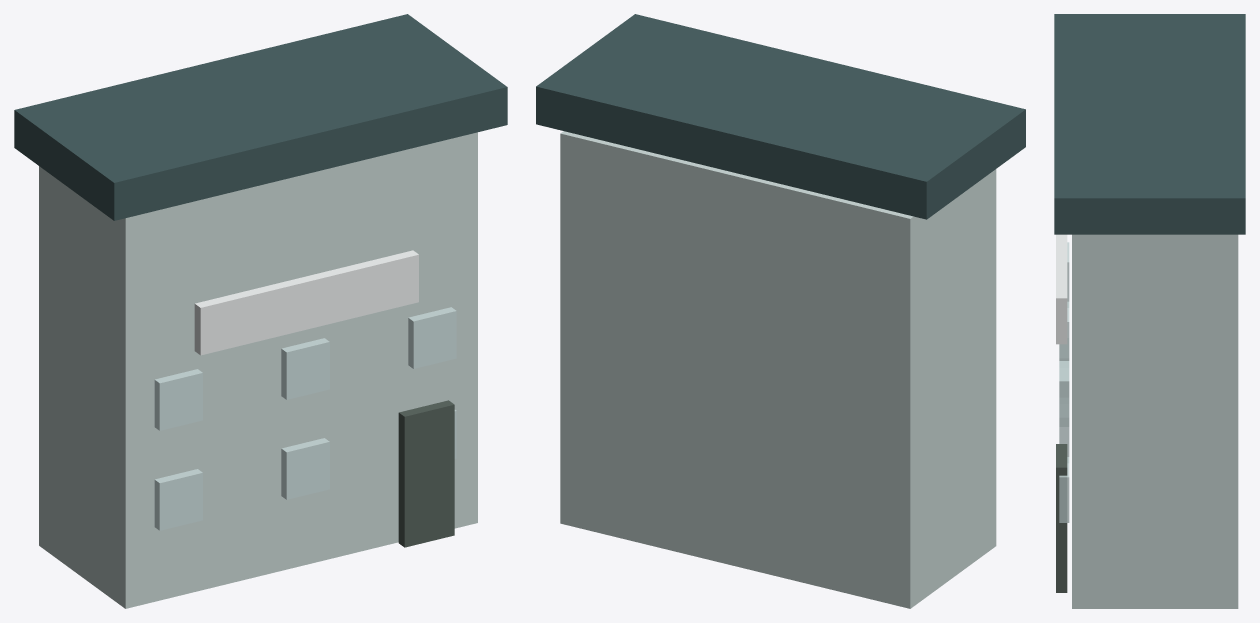
File: district_health_office.glb
The picture shows the model from 3 angles, left to right: view 1: azimuth 30°, elevation 25°; view 2: azimuth 150°, elevation 25°; view 3: azimuth 270°, elevation 25°; orthographic projection. The views are drawn at different scales.
Parts seen in each view (by area): view 1: body, roof, sign, door, window_4, window_0, window_1, window_3, window_5; view 2: body, roof; view 3: body, roof, door, sign, window_5, window_2, window_4.
Boxes of the visible parts, x1,y1,x2,y2 form: body: (39,132,477,608); roof: (14,14,507,220); sign: (194,250,418,355); door: (398,400,454,547); window_4: (281,338,329,399); window_0: (154,469,202,530); window_1: (281,438,329,499); window_3: (154,369,202,430); window_5: (408,307,456,368); body: (560,131,996,608); roof: (536,14,1025,219); body: (1072,234,1238,608); roof: (1054,14,1245,234); door: (1056,444,1067,592); sign: (1056,234,1067,344); window_5: (1059,361,1069,426); window_2: (1059,457,1069,522); window_4: (1059,301,1069,360).
Bounding box in the file's own units: 1.73 × 1.84 × 0.76.
